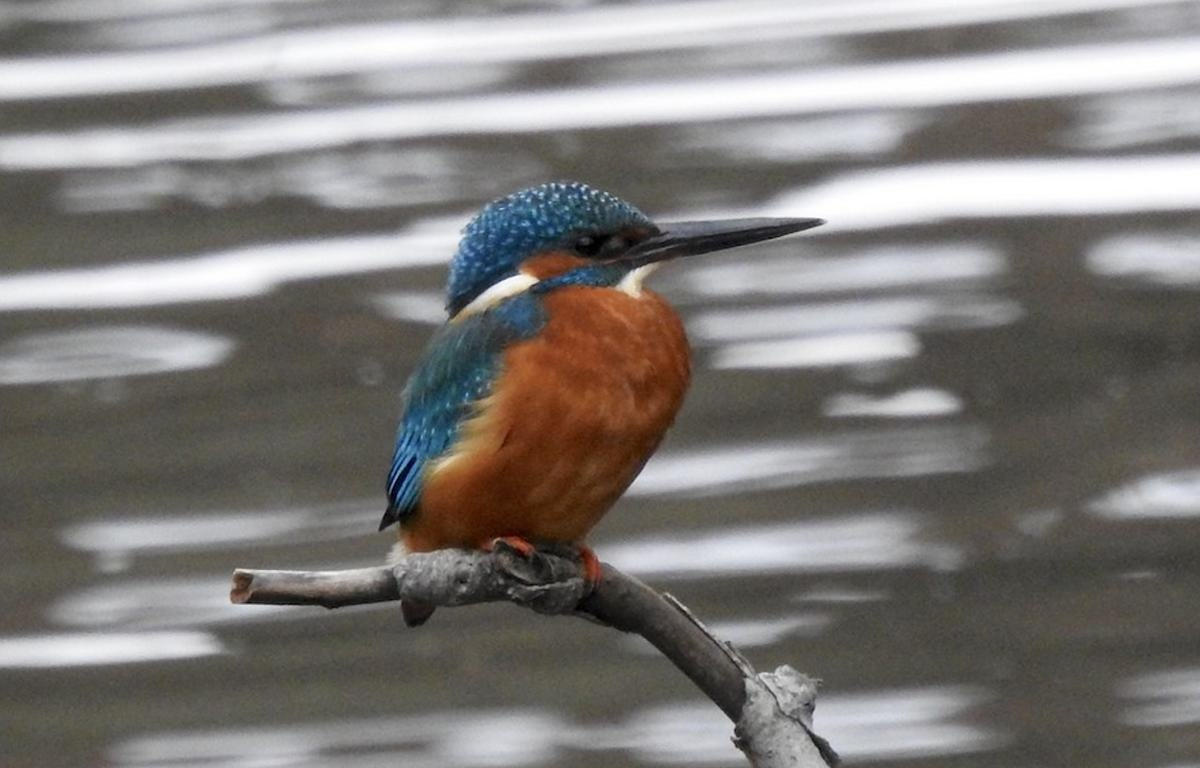kingfisher: (416, 151, 829, 640)
